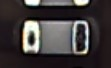COMP: (16, 16, 99, 61)
GAP: (23, 1, 89, 35)
